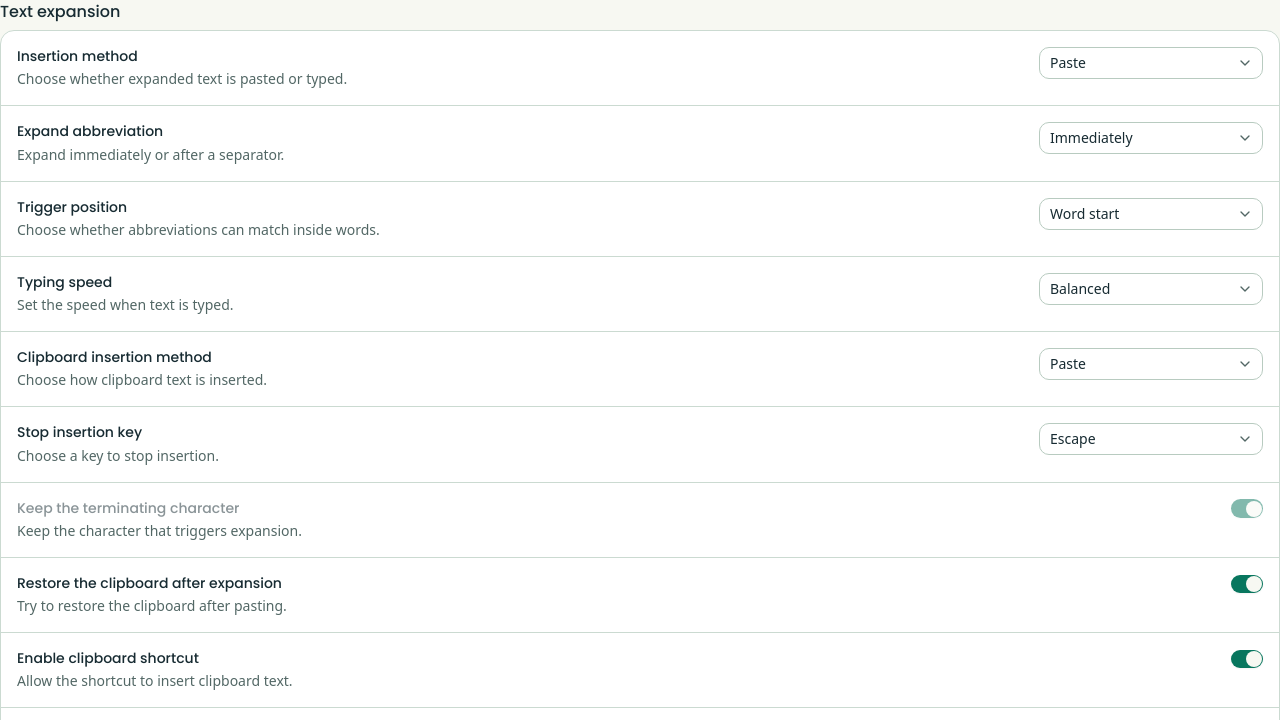
Test case: explains a native shortcut conflict without discarding acknowledged settings
Select "Type" in the dropdown labelled "Insertion method". click: (1151, 63)
box: [1039,47,1263,79]
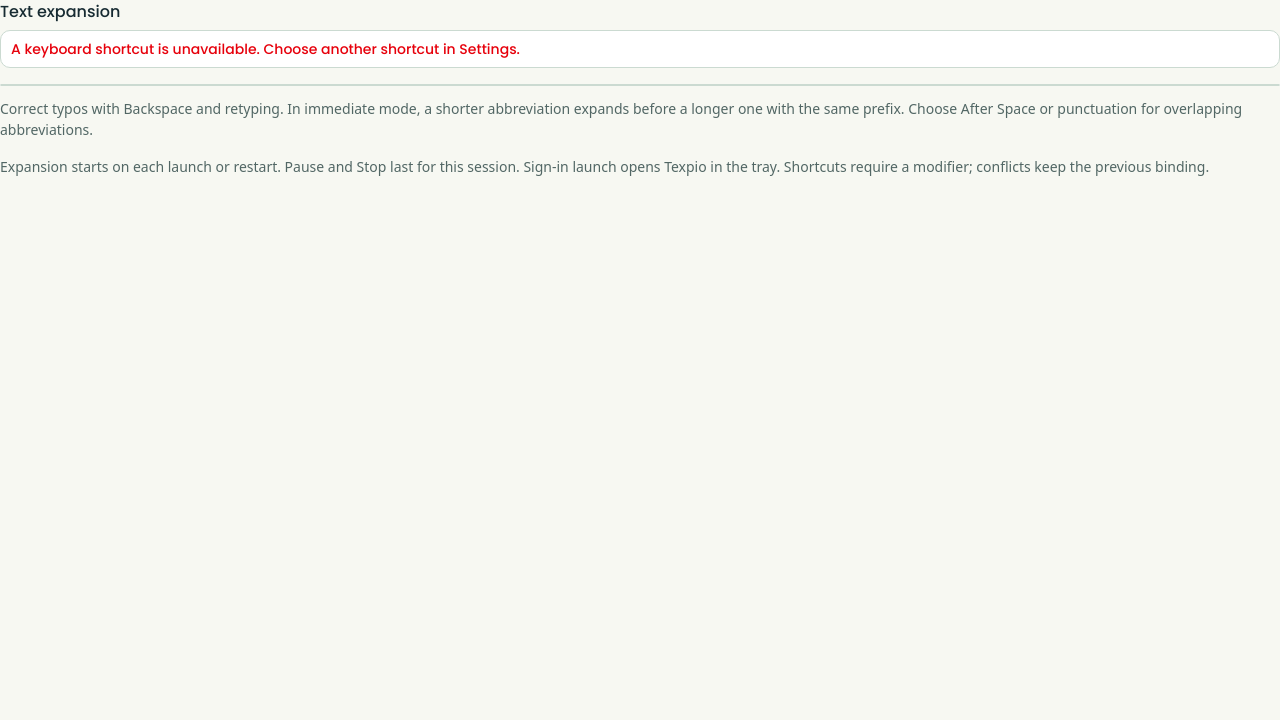
Expected: the text "A keyboard shortcut is unavailable. Choose another shortcut in Settings." is shown, [11,39,520,59]
